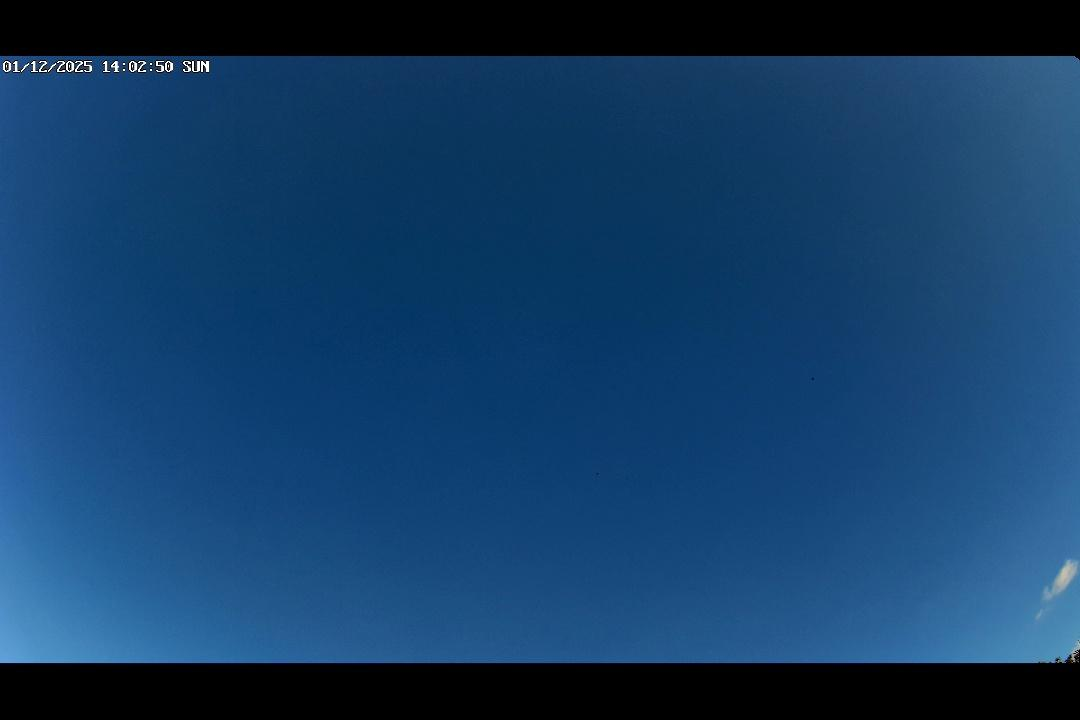WildLife: (802, 376, 821, 387), (592, 466, 603, 480)
